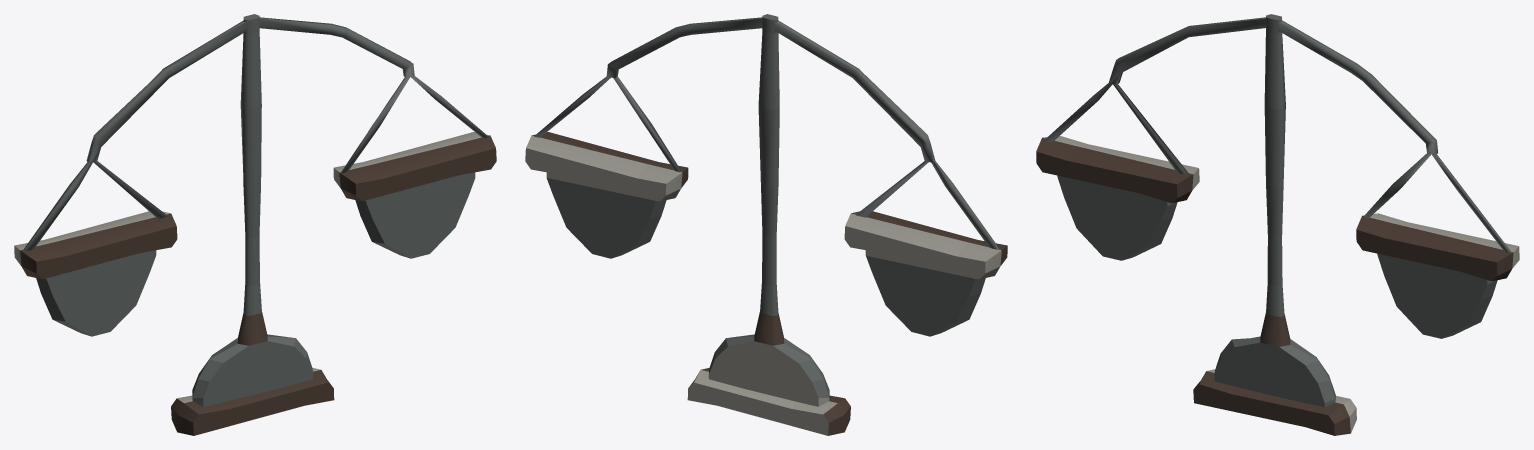
Rendered from Scale.fbx.
The picture shows the model from 3 angles, left to right: view 1: azimuth 30°, elevation 25°; view 2: azimuth 150°, elevation 25°; view 3: azimuth 330°, elevation 25°; orthographic projection.
Parts seen in each view (by area): view 1: SM_Icon_Hourglass_01; view 2: SM_Icon_Hourglass_01; view 3: SM_Icon_Hourglass_01.
Part boxes in pixels (x1,y1,x2,y2): SM_Icon_Hourglass_01: (14, 14, 496, 435); SM_Icon_Hourglass_01: (525, 14, 1007, 435); SM_Icon_Hourglass_01: (1036, 14, 1519, 435).
Bounding box in the file's own units: 47.14 × 38.03 × 3.85.
